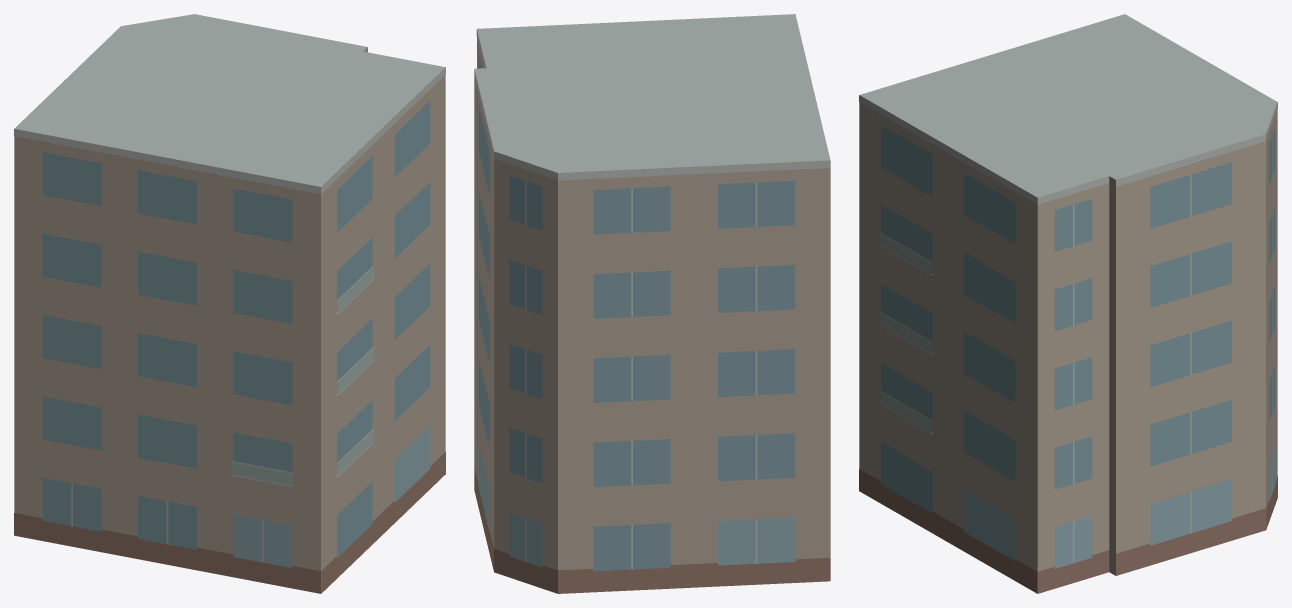
File: survey-upis-32765172.glb
3 views of the same model, side by side, from view 1: azimuth 30°, elevation 25°; view 2: azimuth 150°, elevation 25°; view 3: azimuth 270°, elevation 25° (orthographic). The views are drawn at different scales.
Visible parts, largest first — view 1: survey-upis-32765172.tmp; view 2: survey-upis-32765172.tmp; view 3: survey-upis-32765172.tmp.
Part boxes in pixels (bbox=[...]): survey-upis-32765172.tmp: bbox=[14, 14, 445, 593]; survey-upis-32765172.tmp: bbox=[474, 14, 830, 593]; survey-upis-32765172.tmp: bbox=[859, 14, 1277, 593].
Bounding box in the file's own units: 13.64 × 13.7 × 13.12.
